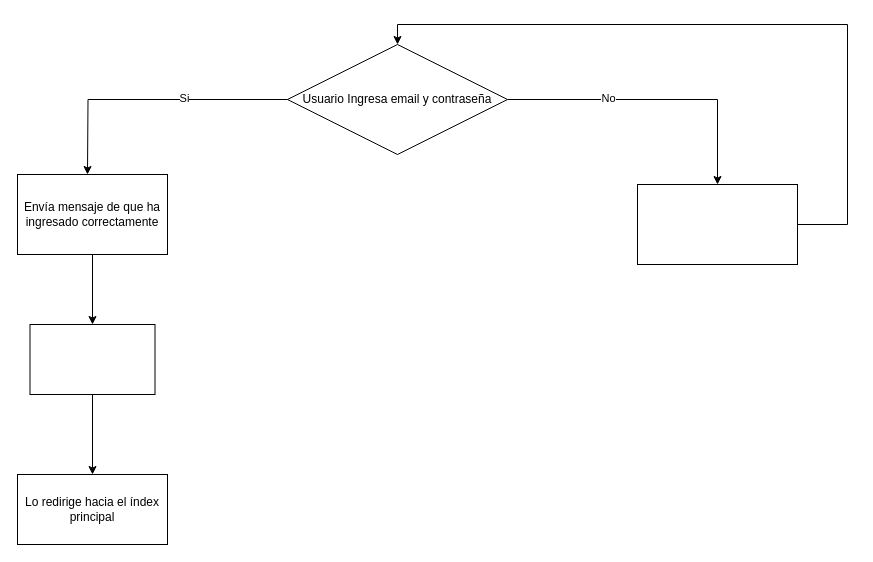
Image size: 873x562. Some labels were removed from this diagram. The shapes that lost their labels are listed below. From the top down, each one's box as (x1, y1, x2, y2) in pixels, then its label:
(636, 184, 798, 264): Envía ERROR, dé correo electrónico o contraseña incorrecta
(29, 324, 155, 394): Usuario encontrado
